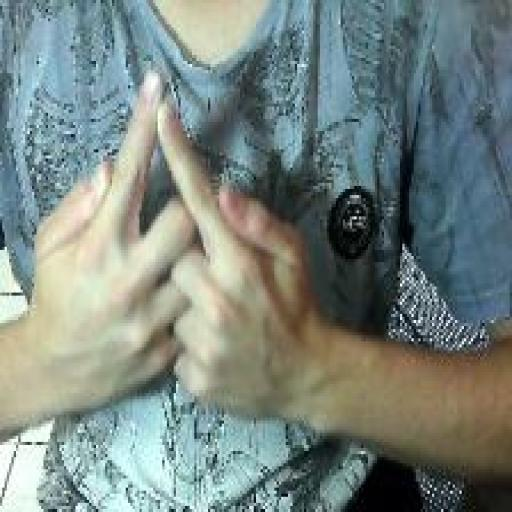Uma -horse-: (27, 67, 320, 436)
